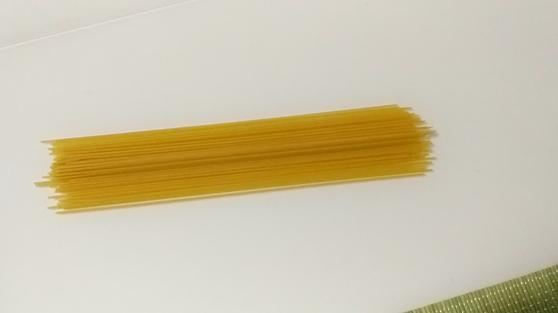spaghetti: (21, 92, 452, 227)
